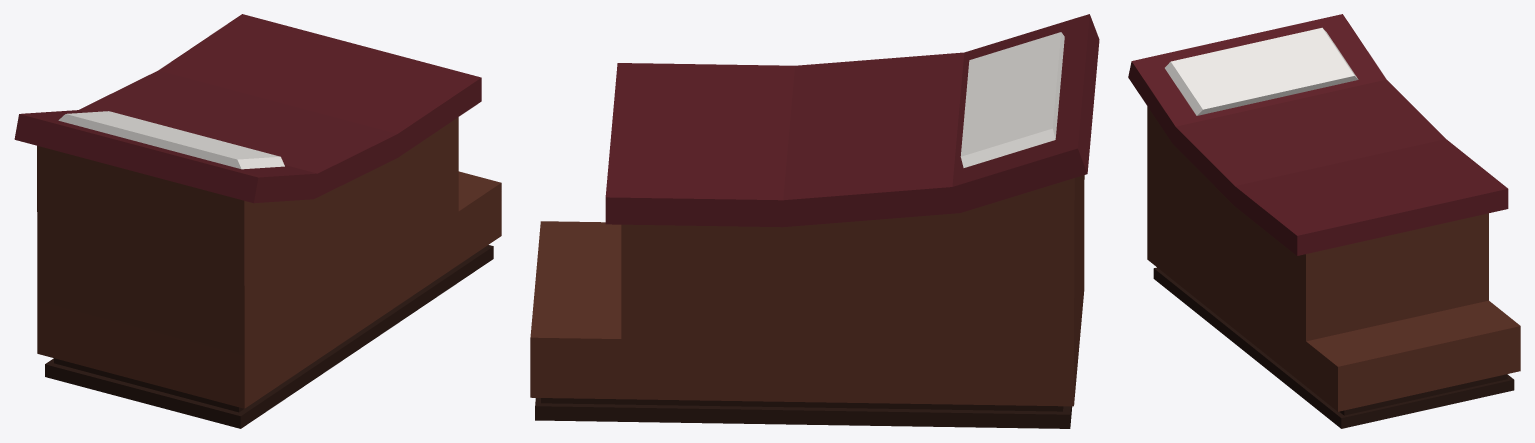
File: Bed.fbx
3 renders of one model, left to right at view 1: azimuth 30°, elevation 25°; view 2: azimuth 150°, elevation 25°; view 3: azimuth 270°, elevation 25°, orthographic. The views are drawn at different scales.
Visible parts, largest first — view 1: Bed.001; view 2: Bed.001; view 3: Bed.001.
Part boxes in pixels (box(x1,y1,x2,y2)): Bed.001: box(14, 14, 501, 428); Bed.001: box(530, 14, 1099, 428); Bed.001: box(1128, 14, 1520, 428).
Bounding box in the file's own units: 1267 × 649 × 1049.
